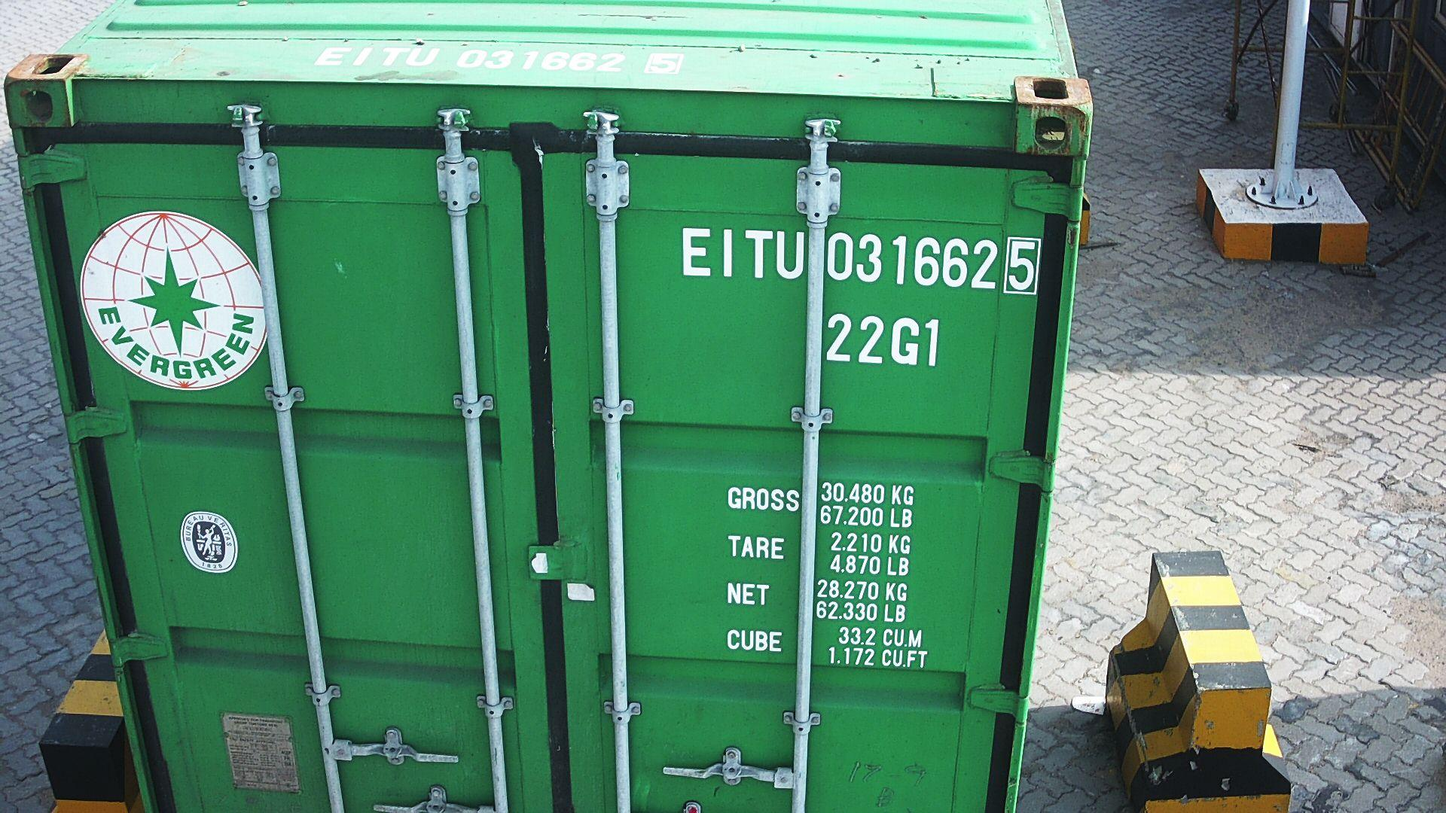container-numbers: (674, 224, 1046, 299), (309, 40, 688, 77), (822, 309, 947, 370)
